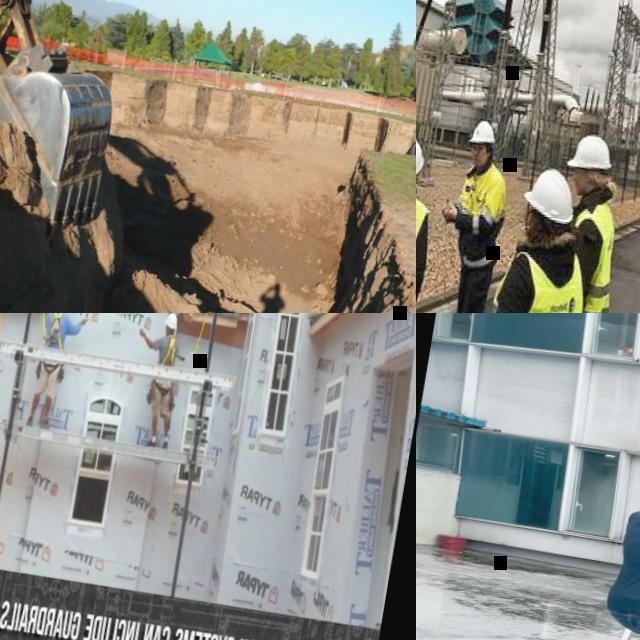Hardhat: (520, 164, 583, 229), (567, 129, 618, 177), (469, 116, 498, 144), (416, 133, 428, 185), (163, 313, 178, 330)
NO-Mask: (572, 175, 594, 194), (473, 151, 493, 169), (166, 330, 170, 335)
NO-Safety Vest: (611, 499, 640, 620), (44, 313, 70, 350), (158, 334, 179, 366)
Person: (418, 111, 522, 313), (472, 159, 606, 313), (533, 127, 640, 313), (121, 313, 190, 449), (26, 313, 94, 433), (416, 128, 447, 313)
Safety Vest: (483, 239, 594, 313), (558, 197, 626, 313), (452, 161, 512, 271)
machinery: (0, 0, 146, 237)
